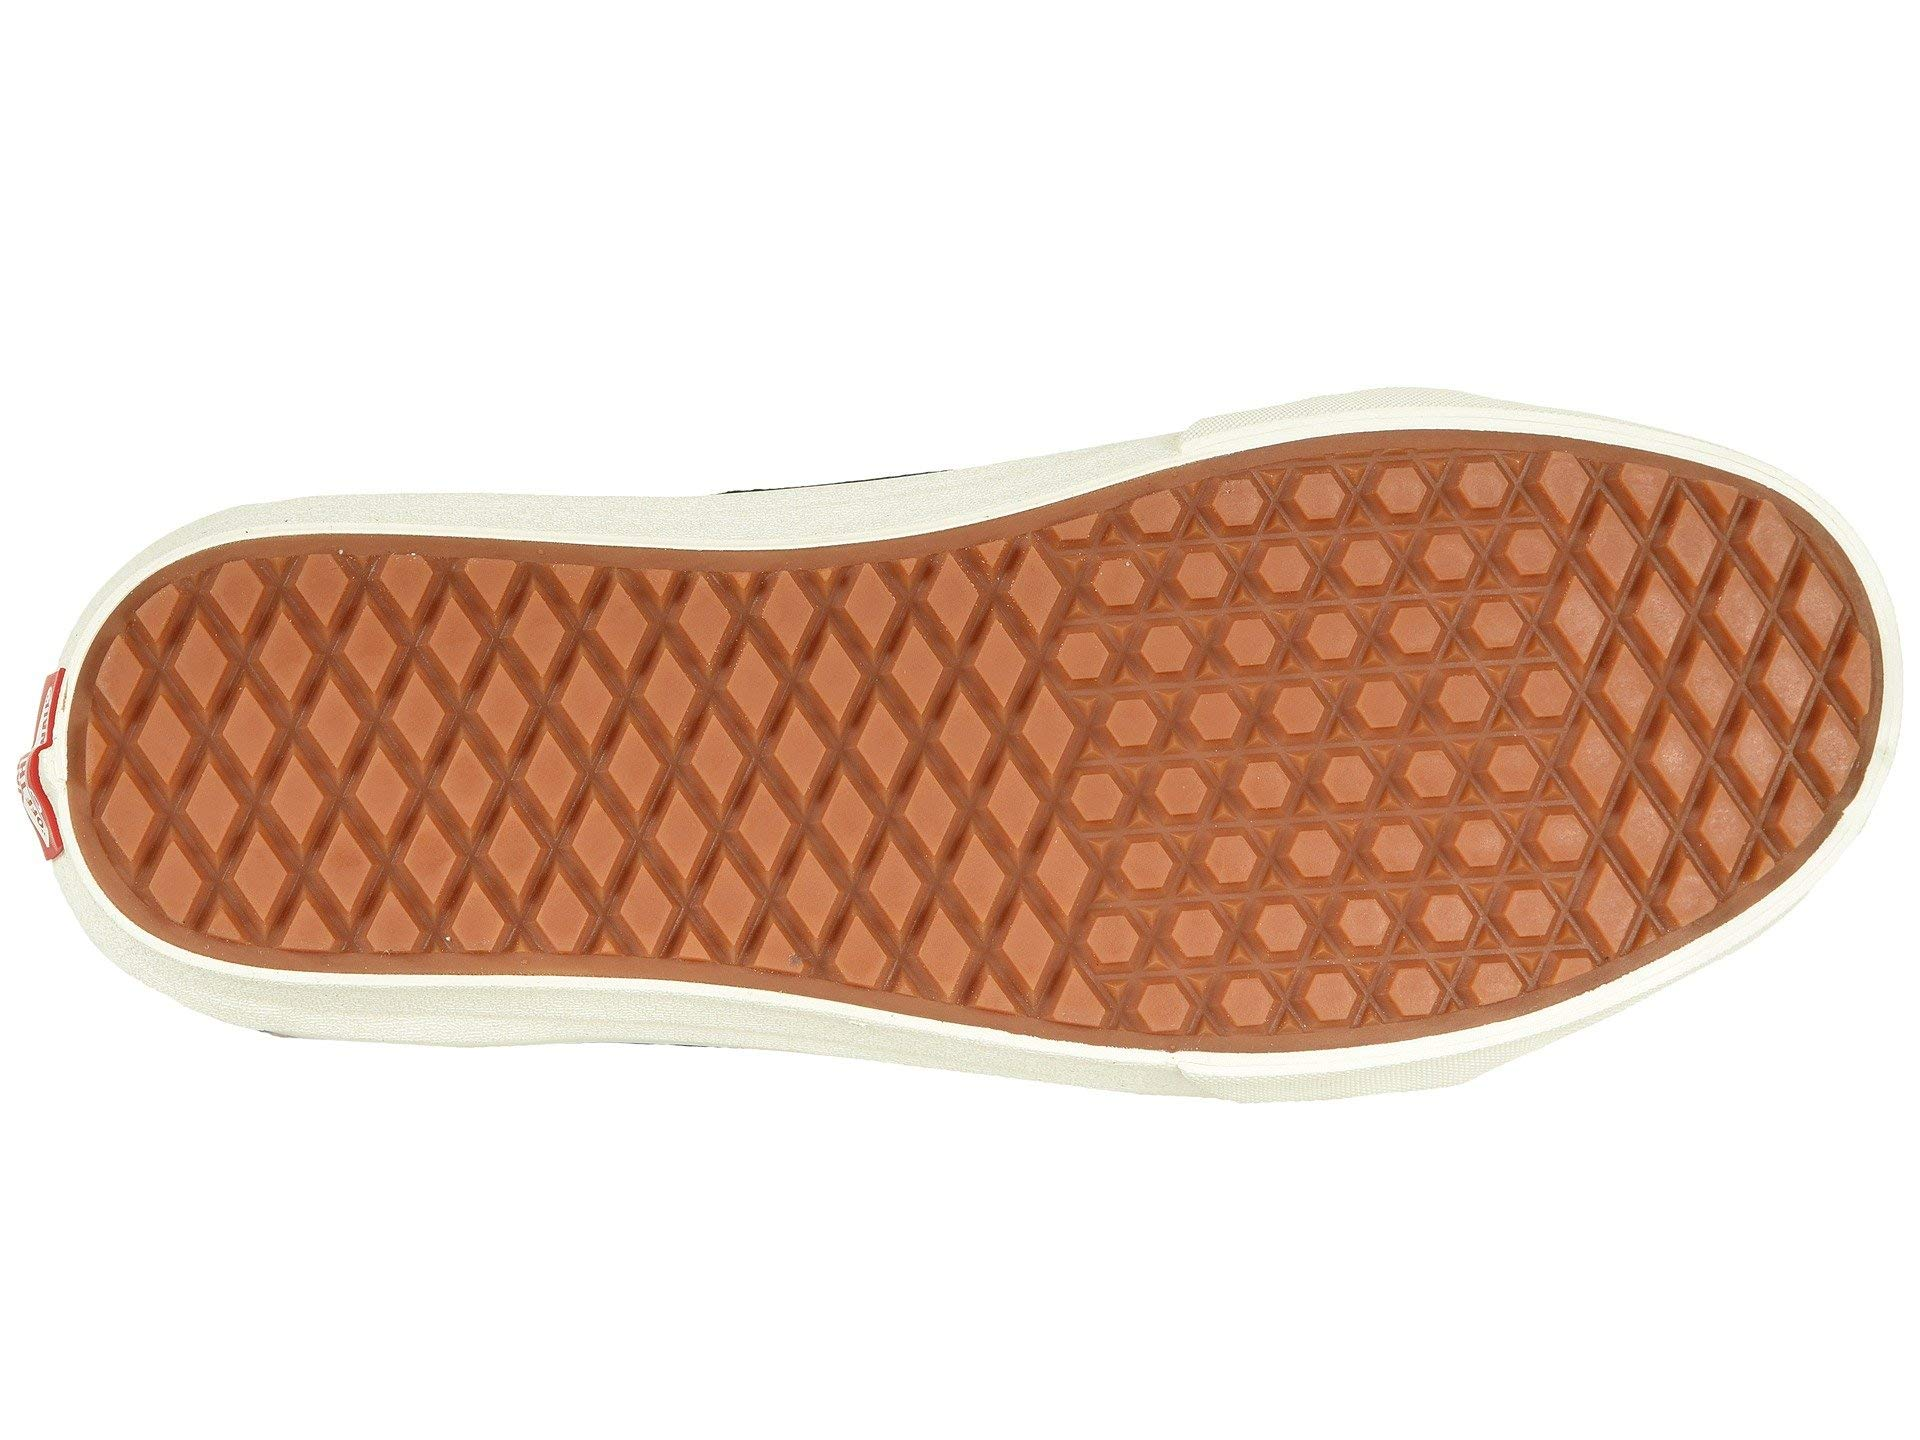polygon: (1105, 499, 1527, 998)
quad: (172, 573, 1055, 951)
triangle: (1105, 499, 1527, 998)
